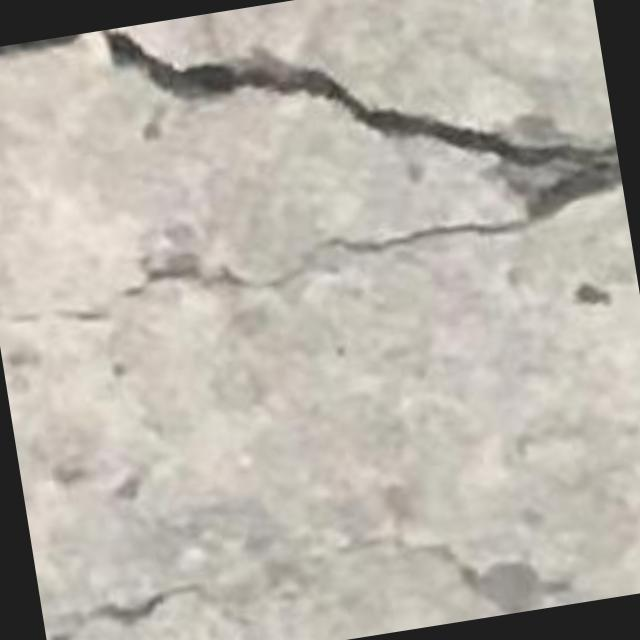crack: (0, 30, 621, 325)
